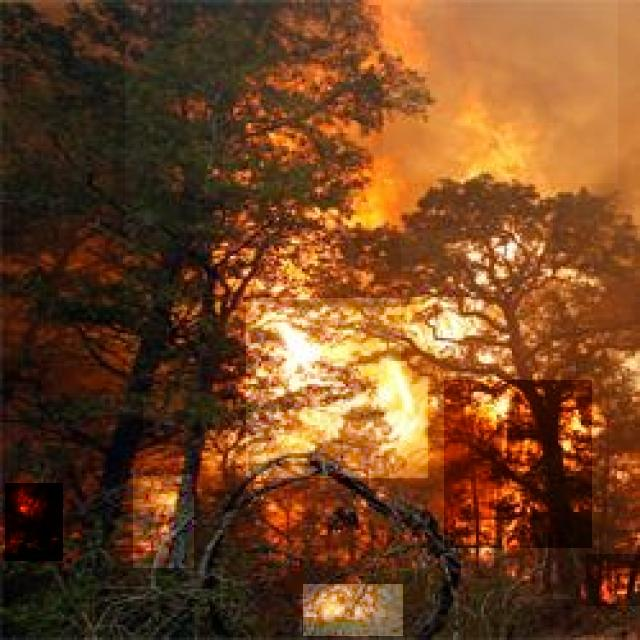Fire: (195, 66, 355, 294), (246, 298, 428, 478), (444, 380, 592, 548), (401, 230, 552, 376), (133, 474, 194, 568), (304, 584, 404, 636), (5, 483, 63, 561), (586, 554, 640, 606)
Smoke: (0, 8, 125, 395), (383, 0, 618, 183)
